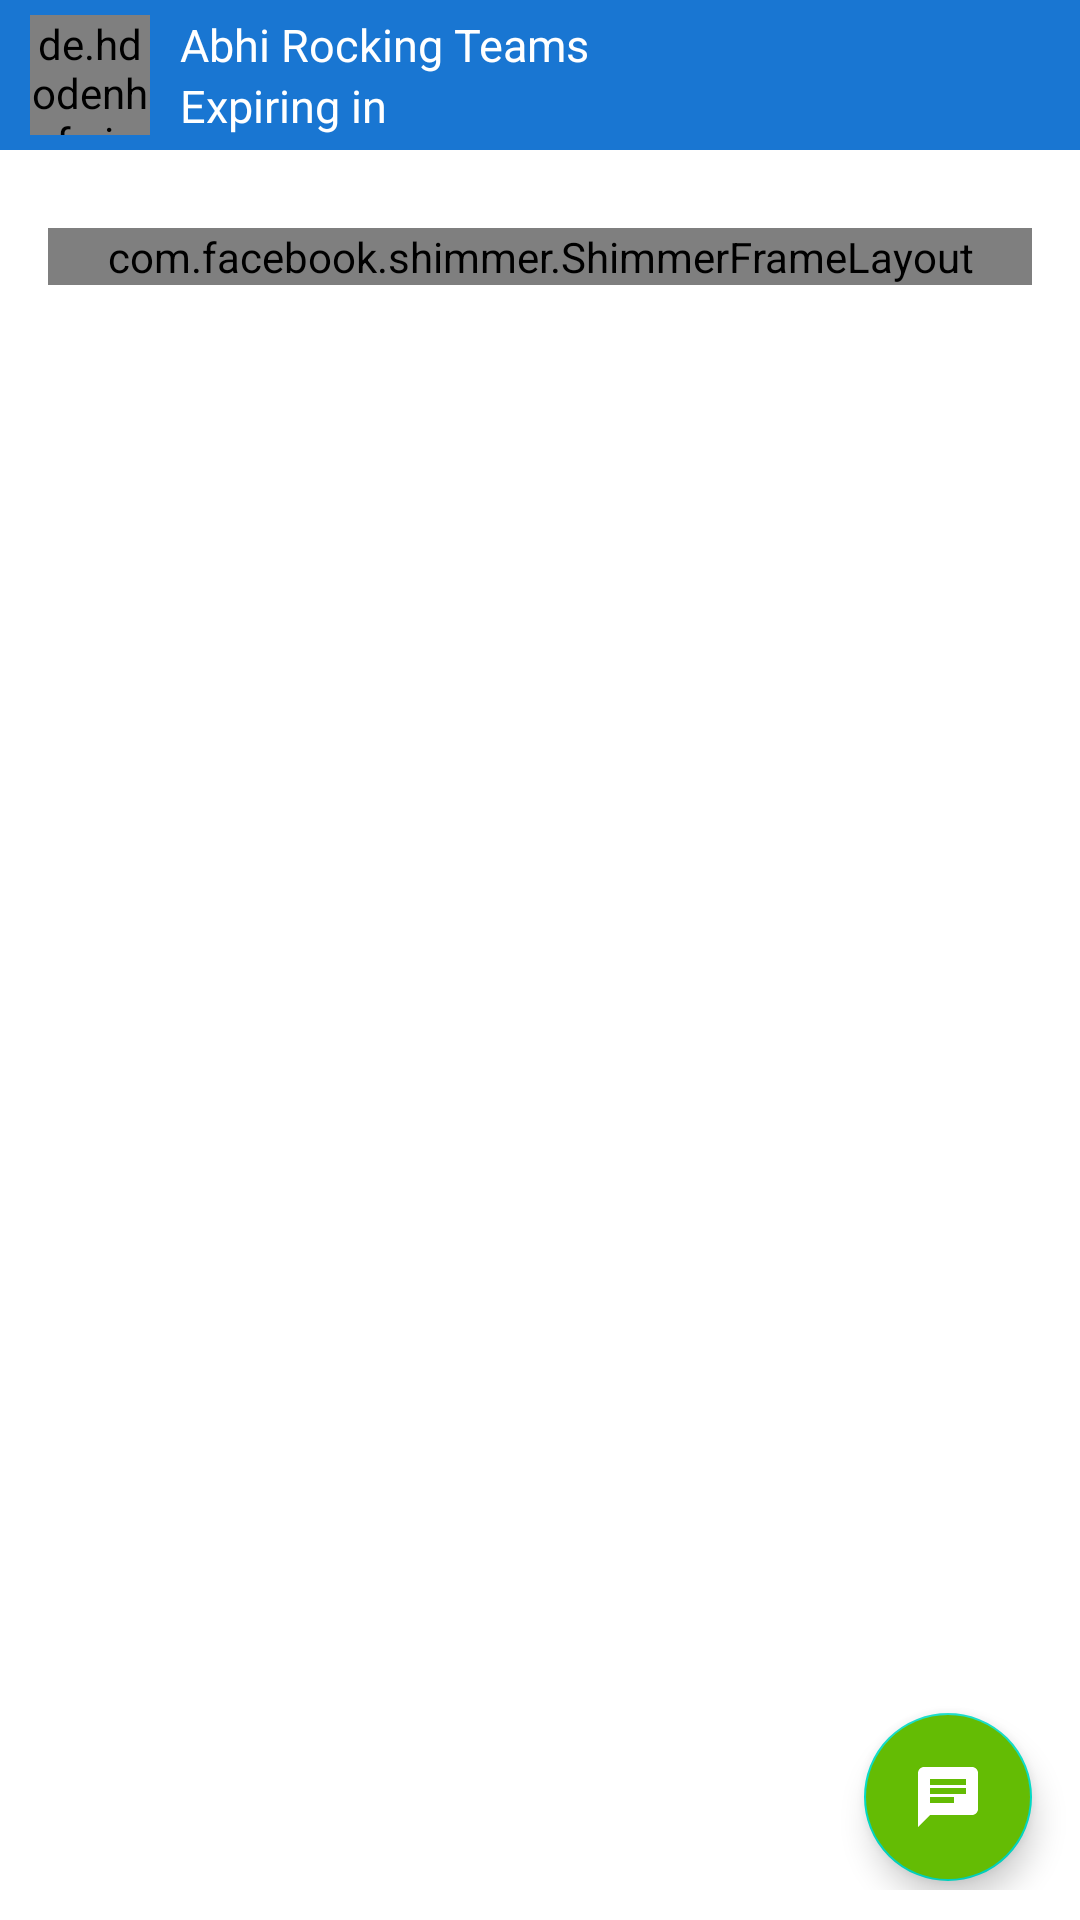

Where to tap for icons on this 1080×1920 app screen, as [x,y]:
chat: [948,1797]
